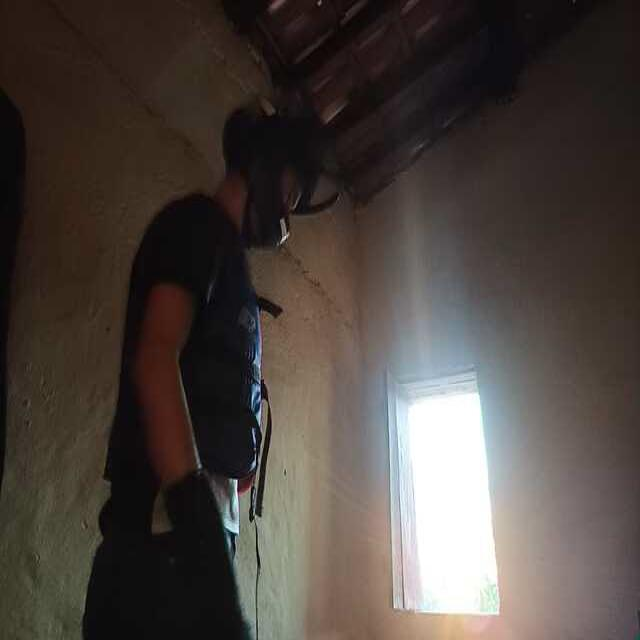capacete: (226, 100, 336, 247)
colete: (116, 196, 262, 484)
pessoa: (87, 115, 266, 640)
